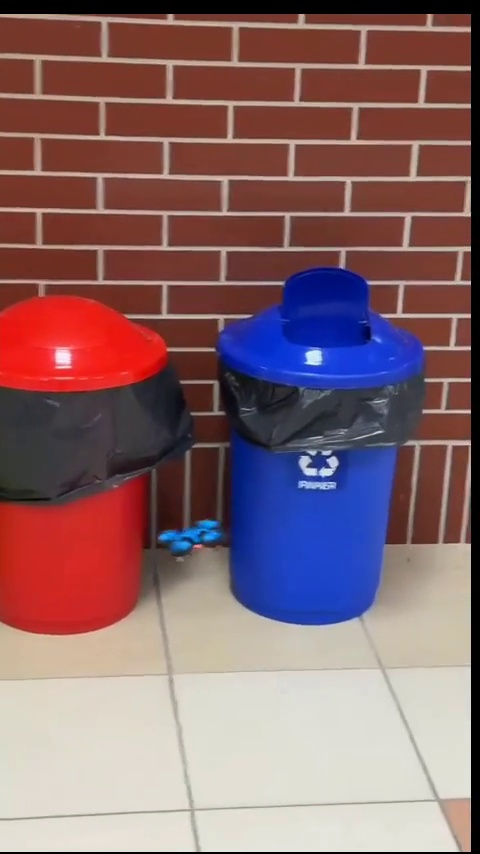drone: (154, 516, 232, 565)
